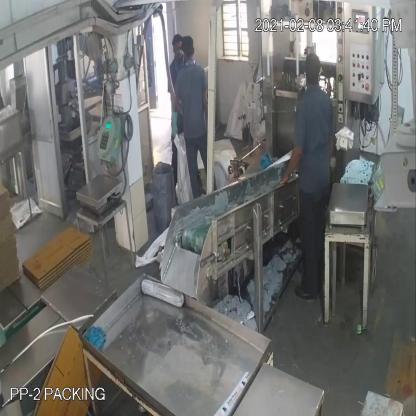no_glove: (276, 141, 303, 192)
